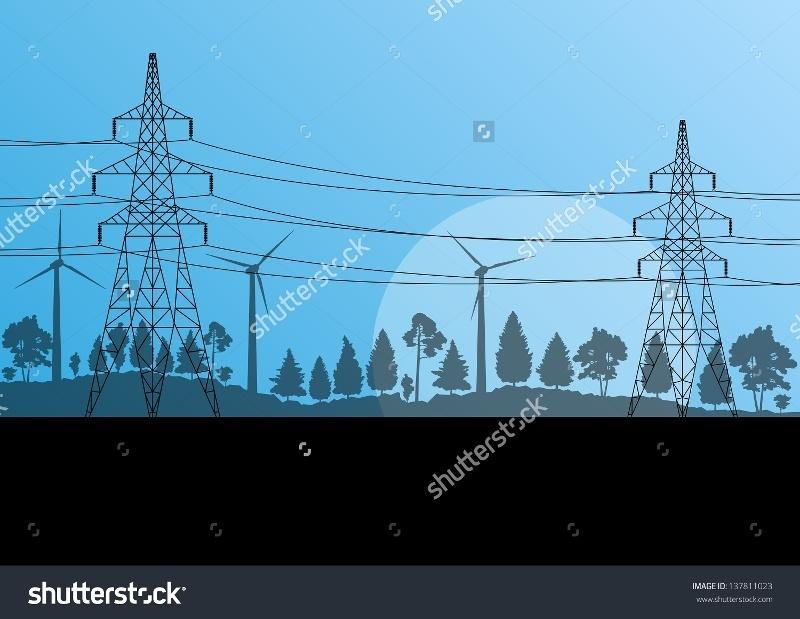power_tower: (65, 54, 234, 414), (653, 139, 746, 421)
